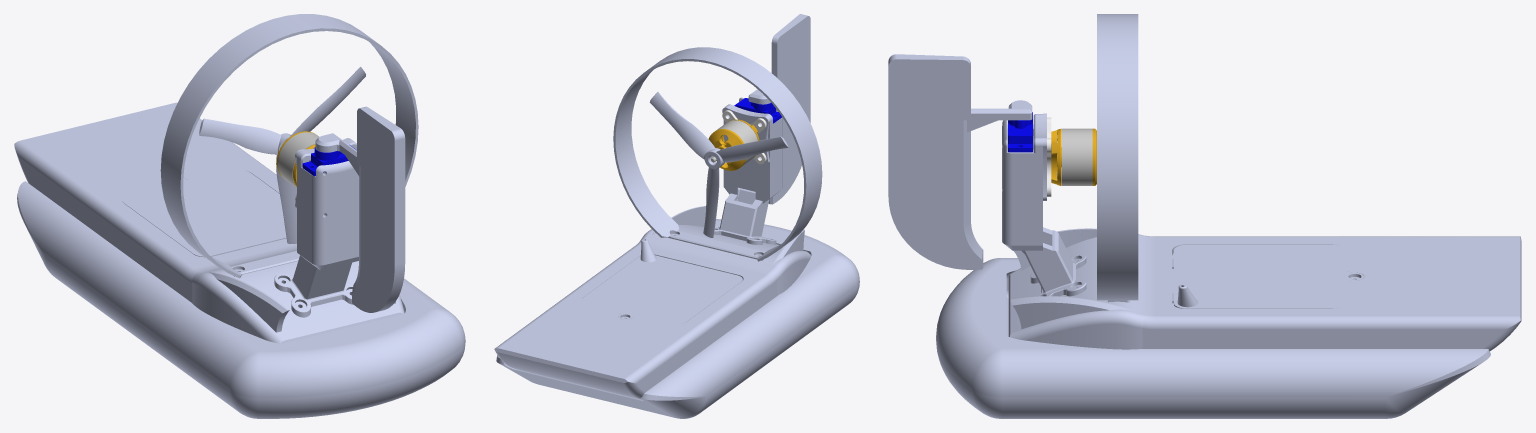
Rendered from rc_airboat.glb.
The picture shows the model from 3 angles, left to right: view 1: azimuth 30°, elevation 25°; view 2: azimuth 150°, elevation 25°; view 3: azimuth 270°, elevation 25°; orthographic projection. The views are drawn at different scales.
Parts seen in each view (by area): view 1: life_boat-1, boat_hull-1, propeller_coverV2-1, rudder-1, rear_stand-1, internals_lid-1, propeller-1, dc_motor-1, servo-2; view 2: boat_hull-1, life_boat-1, propeller_coverV2-1, internals_lid-1, rear_stand-1, rudder-1, propeller-1, dc_motor-1, dc_backplate-1, servo-2; view 3: boat_hull-1, life_boat-1, rudder-1, propeller_coverV2-1, internals_lid-1, rear_stand-1, dc_motor-1, servo-2.
Part boxes in pixels (x1,y1,x2,y2): life_boat-1: [17, 181, 465, 418]; boat_hull-1: [14, 102, 404, 343]; propeller_coverV2-1: [160, 14, 418, 278]; rudder-1: [315, 106, 405, 312]; rear_stand-1: [274, 139, 358, 317]; internals_lid-1: [122, 169, 286, 257]; propeller-1: [199, 66, 365, 243]; dc_motor-1: [276, 131, 342, 201]; servo-2: [302, 144, 356, 176]; boat_hull-1: [494, 206, 811, 399]; life_boat-1: [496, 219, 859, 418]; propeller_coverV2-1: [613, 47, 822, 261]; internals_lid-1: [582, 239, 742, 324]; rear_stand-1: [714, 97, 782, 244]; rudder-1: [748, 14, 810, 204]; propeller-1: [649, 92, 788, 237]; dc_motor-1: [708, 110, 766, 170]; dc_backplate-1: [722, 106, 769, 165]; servo-2: [734, 98, 781, 123]; boat_hull-1: [1008, 228, 1521, 351]; life_boat-1: [936, 258, 1490, 418]; rudder-1: [888, 54, 1032, 269]; propeller_coverV2-1: [1097, 14, 1138, 302]; internals_lid-1: [1172, 244, 1364, 308]; rear_stand-1: [1002, 114, 1086, 296]; dc_motor-1: [1047, 117, 1096, 196]; servo-2: [1008, 112, 1032, 152].
Bounding box in the file's own units: 0.1389 × 0.184 × 0.3066.
